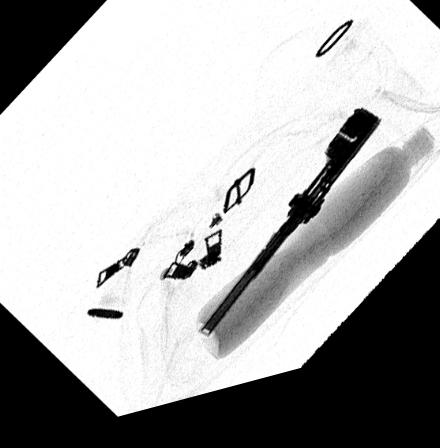Pliers: (199, 126, 382, 347)
